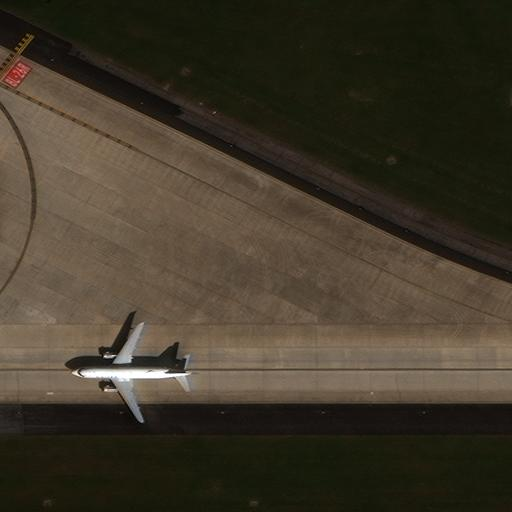Medium Civil Transport: (71, 325, 195, 423)
